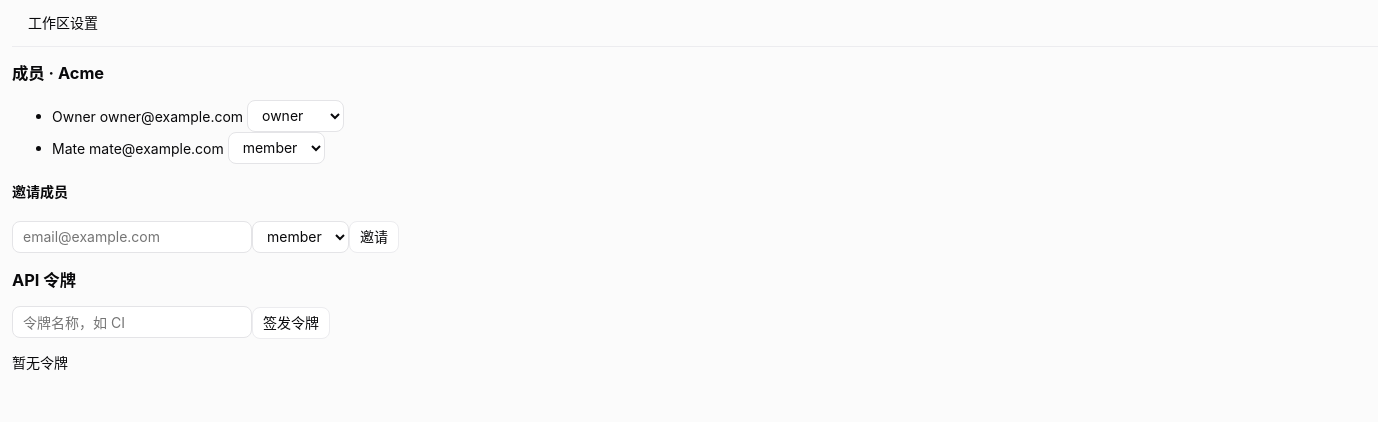
Test: SettingsPage › invites a registered user and reports direct join
This screenshot has width=1378, height=422.
In the field with test id "invite-email": [132, 237] box [12,221,252,253], type "new@example.com"
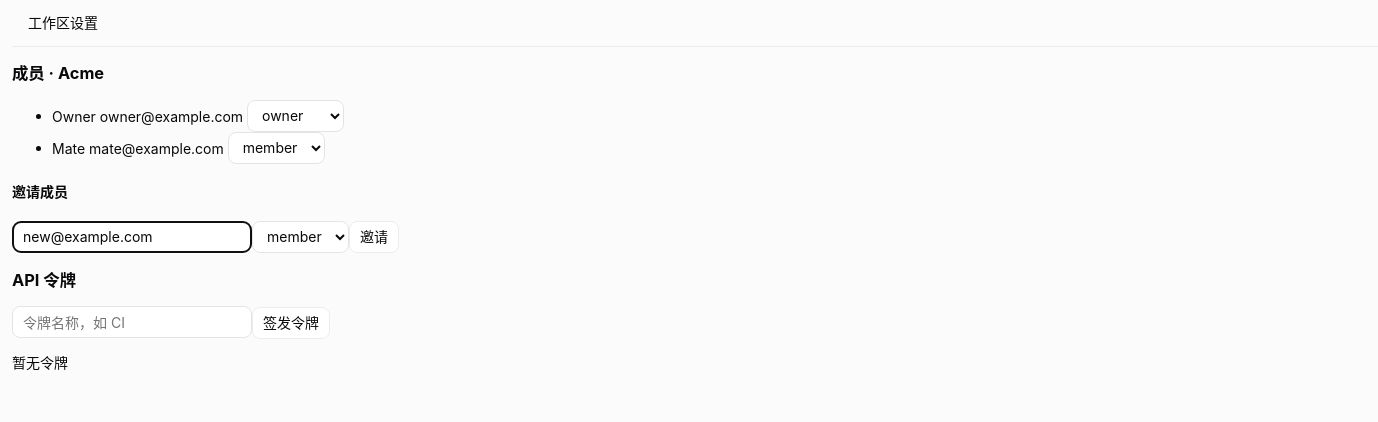
Click the button with test id "invite-submit": [374, 238] box [349,222,399,254]
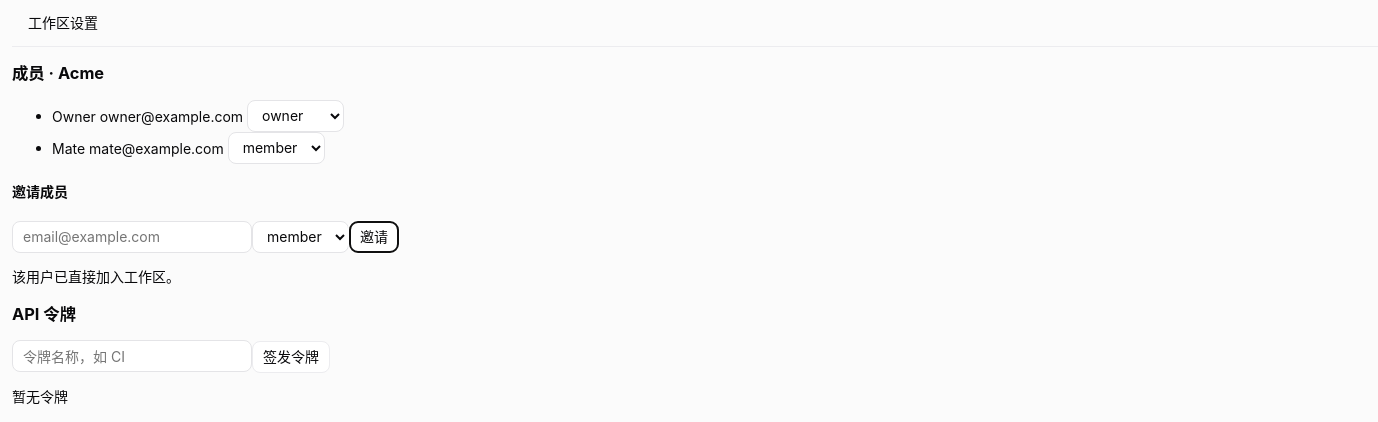
Expected: the text "该用户已直接加入工作区。" is shown, [12,268,180,286]
